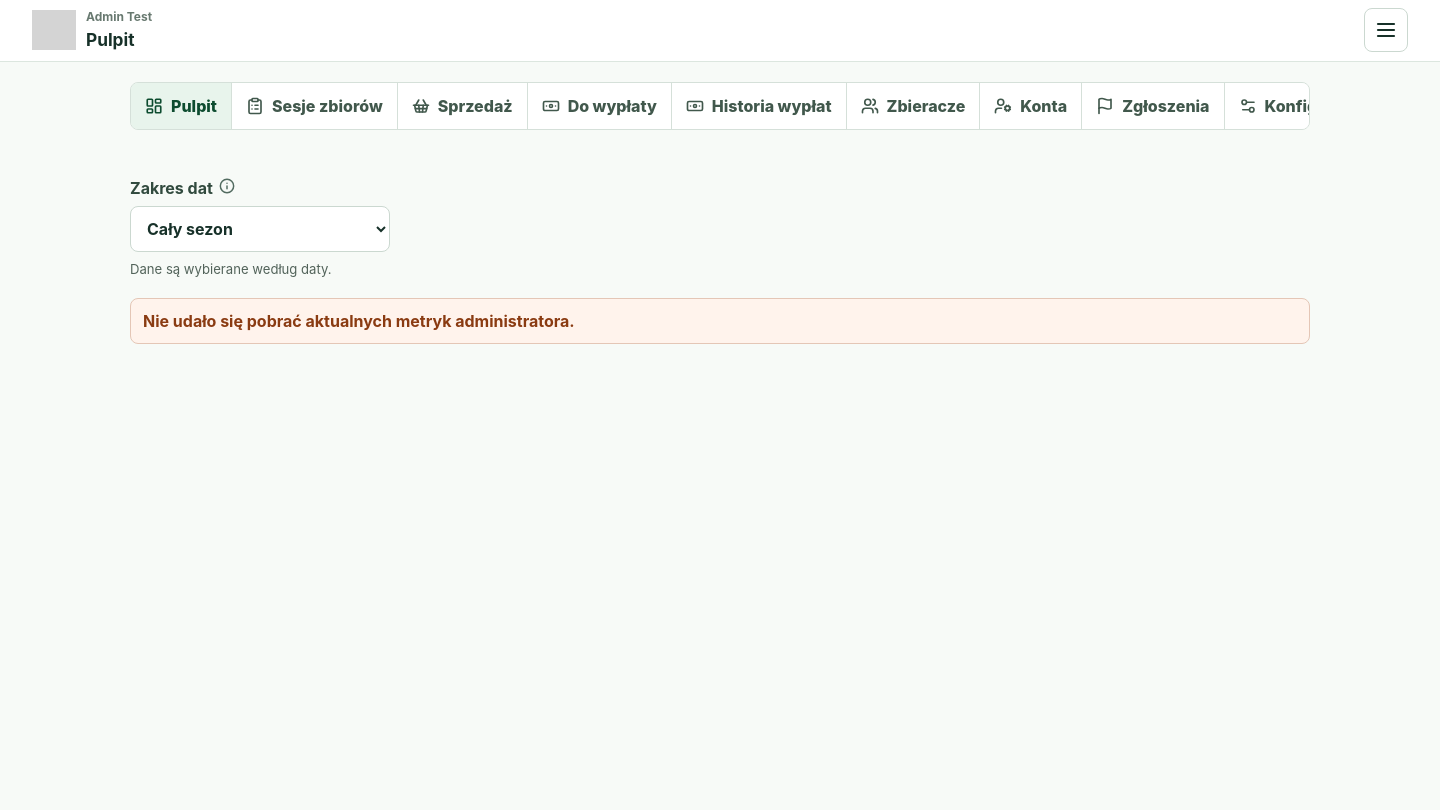
Test: App shell › blocks sign out and lists sessions while local documents are pending
Click the button named "Otwórz menu": [1386, 30] box [1364,8,1408,52]
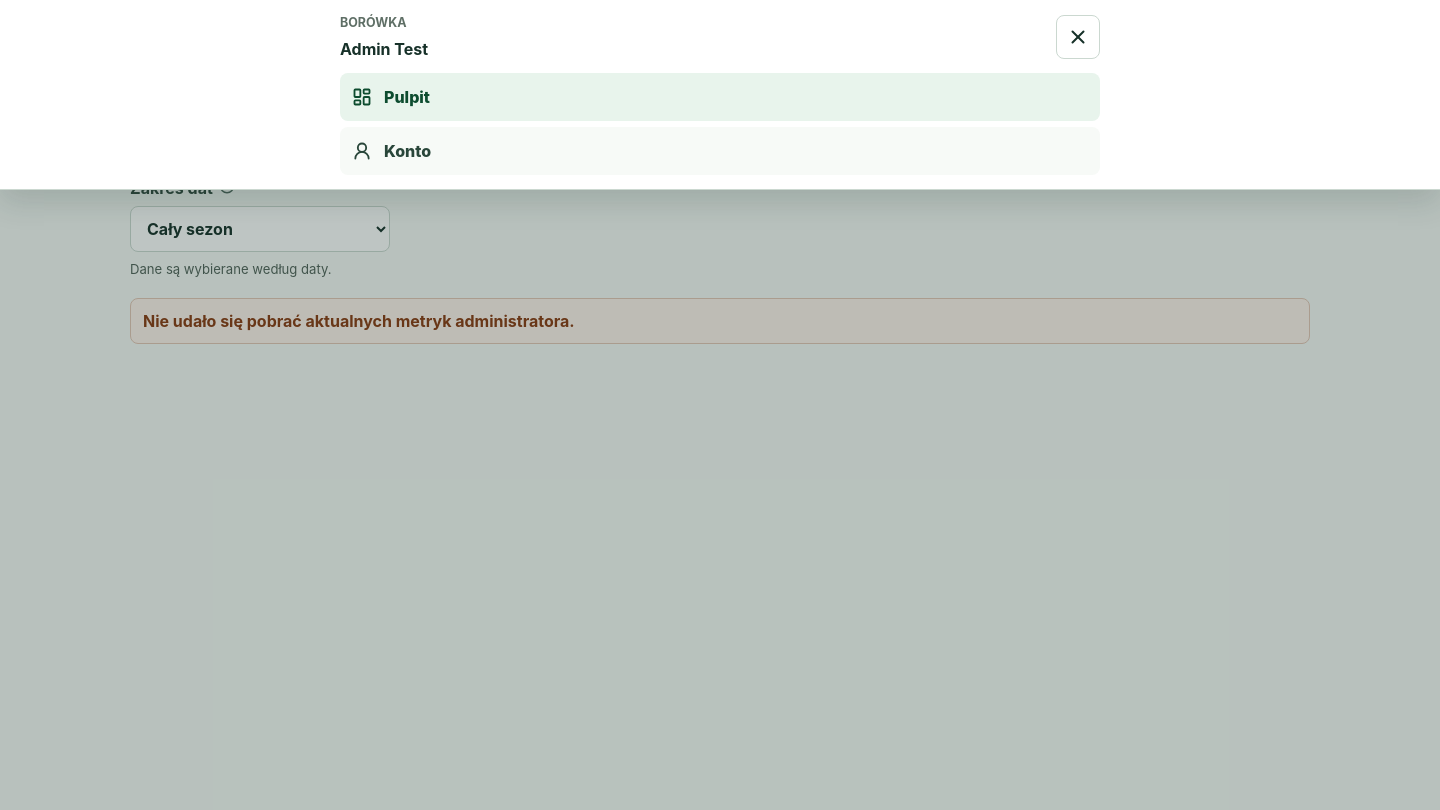
Click the button "Konto": [408, 151] box [340,127,1100,175]
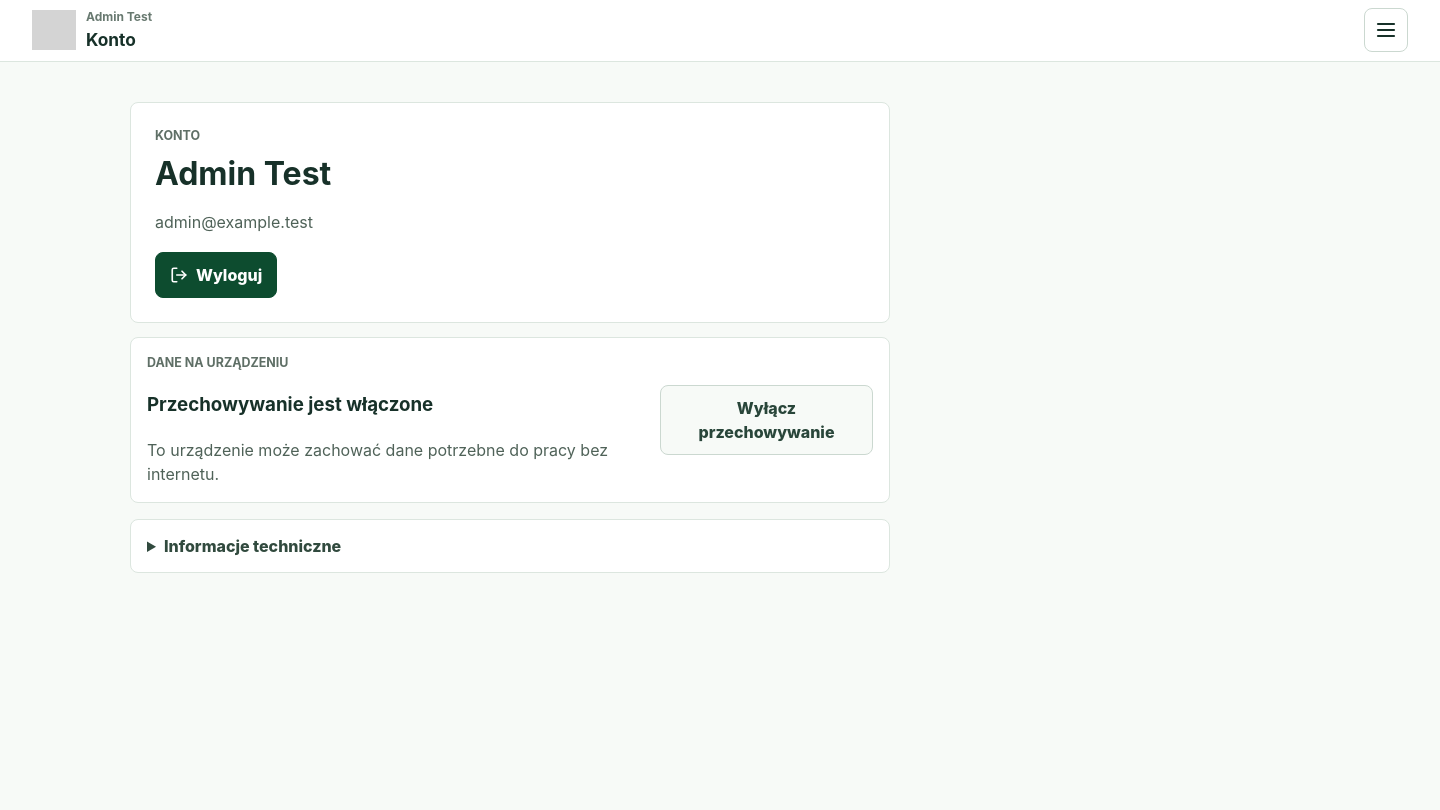
Click the button "Wyloguj": [216, 275] box [155,252,277,298]
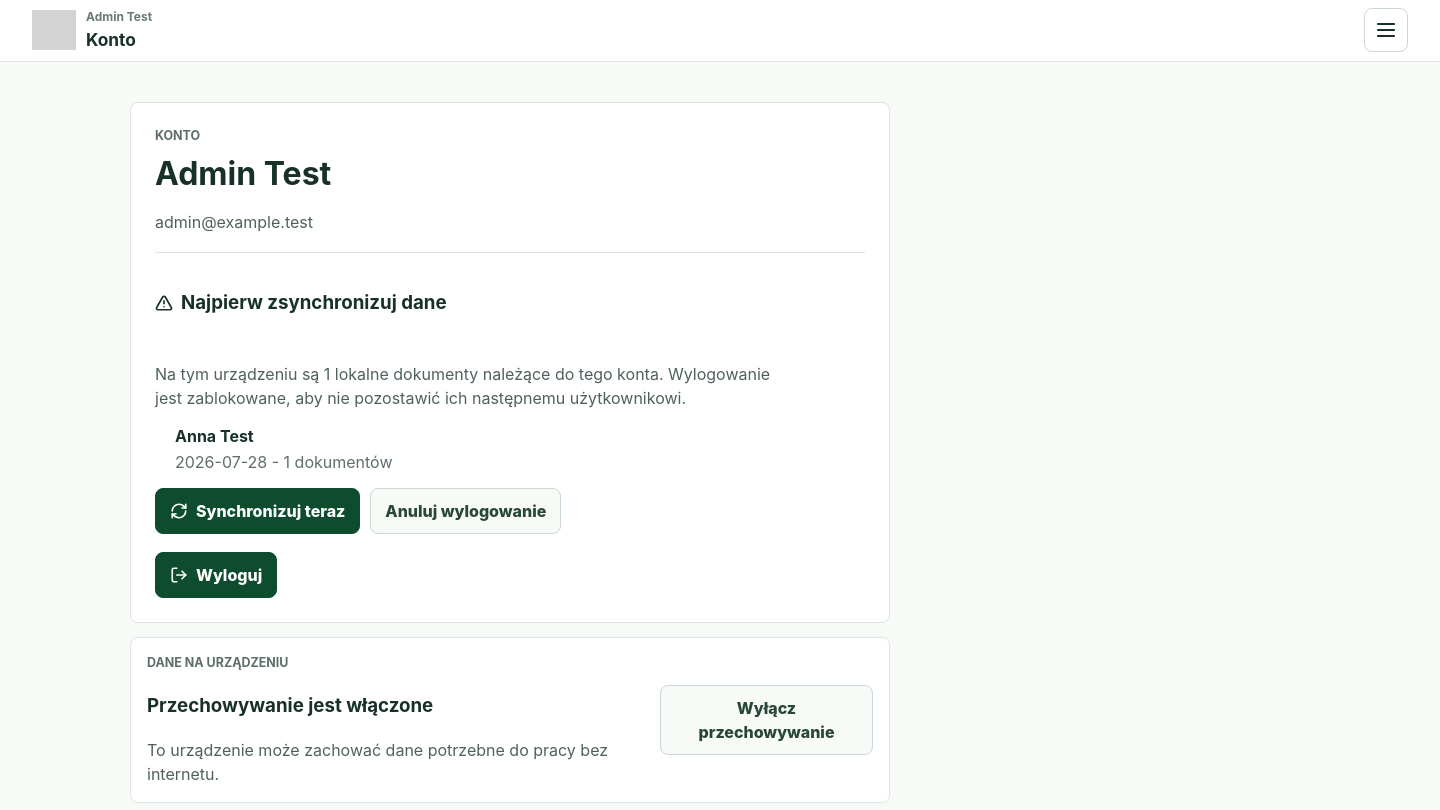
Now the heading "Najpierw zsynchronizuj dane" is shown, box [181,289,447,318]
Now the text "Anna Test" is shown, box [175,426,254,446]
Now the button "Anuluj wylogowanie" is enabled, box [370,488,561,534]
